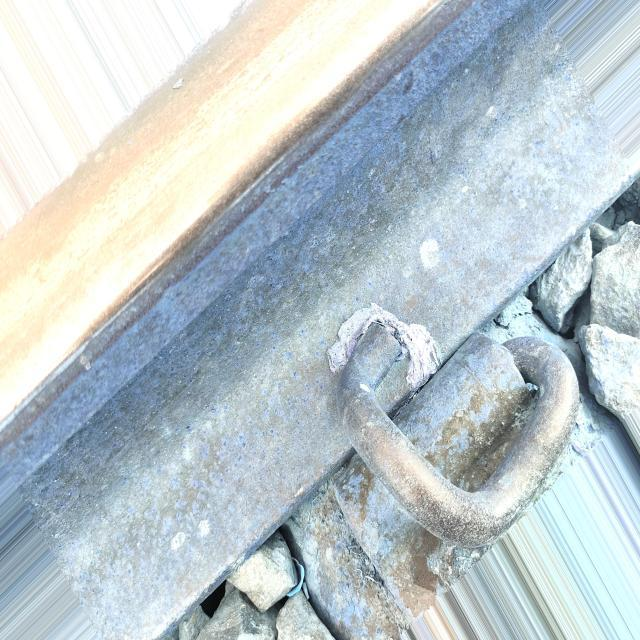Good Fasteners: (283, 324, 601, 640)
